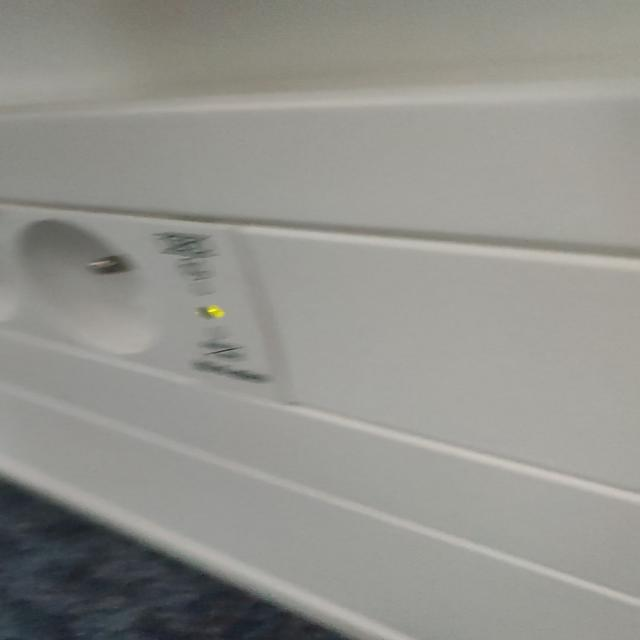house plug: (16, 203, 163, 375)
